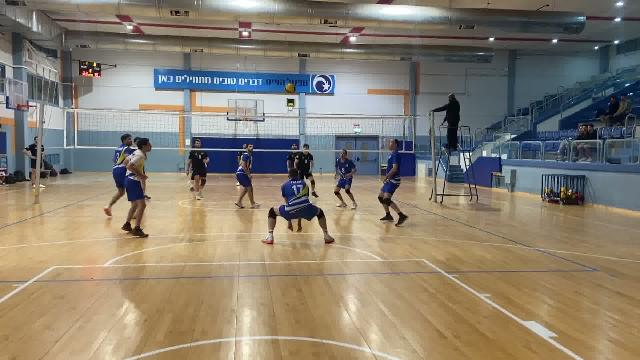ball: (283, 80, 297, 97)
